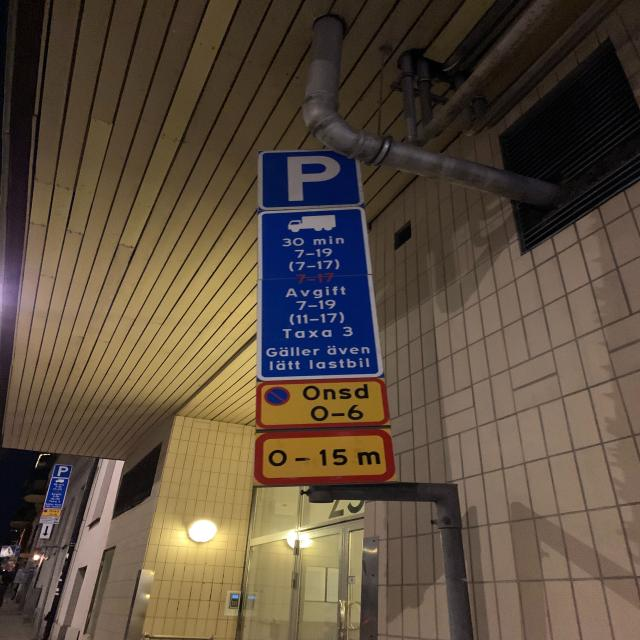psign: (258, 150, 364, 210), (52, 464, 72, 479)
